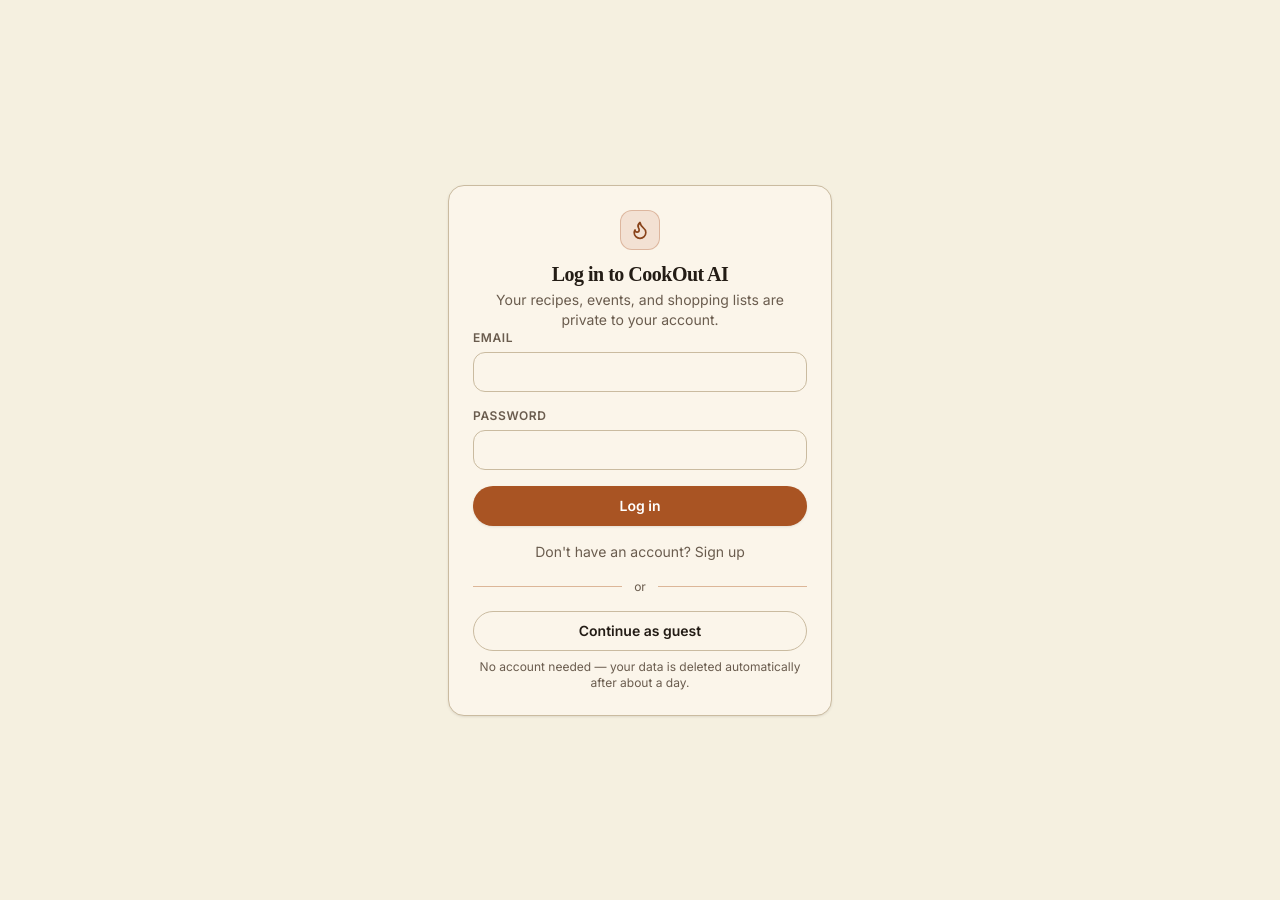
Web UI (TanStack Query & App Integration Tests) › Guest mode UI › clicking "Continue as guest" on AuthPage posts to /api/auth/guest and renders the app as a guest
Click the button "Continue as guest": point(640, 630) [473,610,807,650]
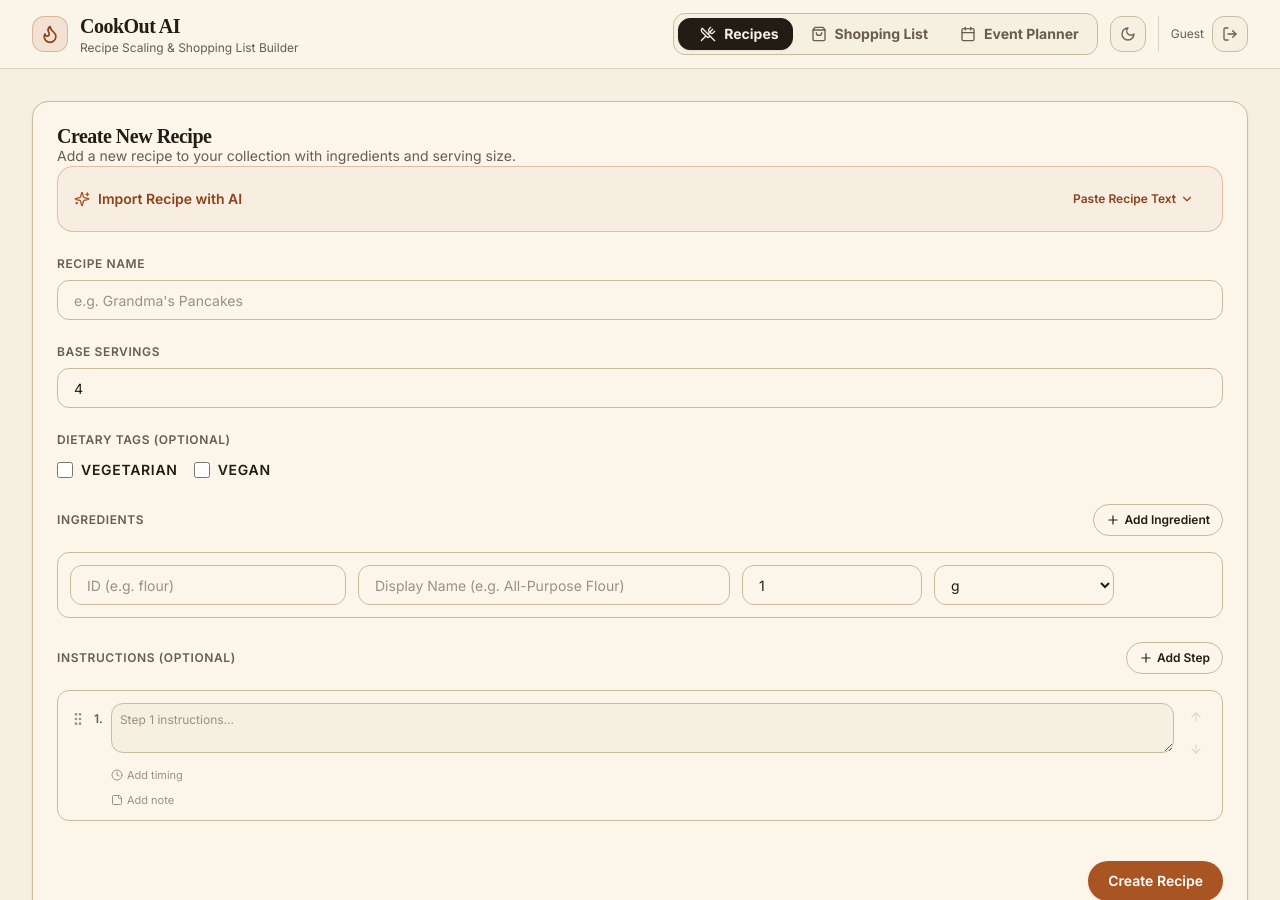
Expected: the text "Guest" is shown, [1171,26,1204,42]
Expected: the button named "end guest session" is shown, [1212,16,1248,52]
